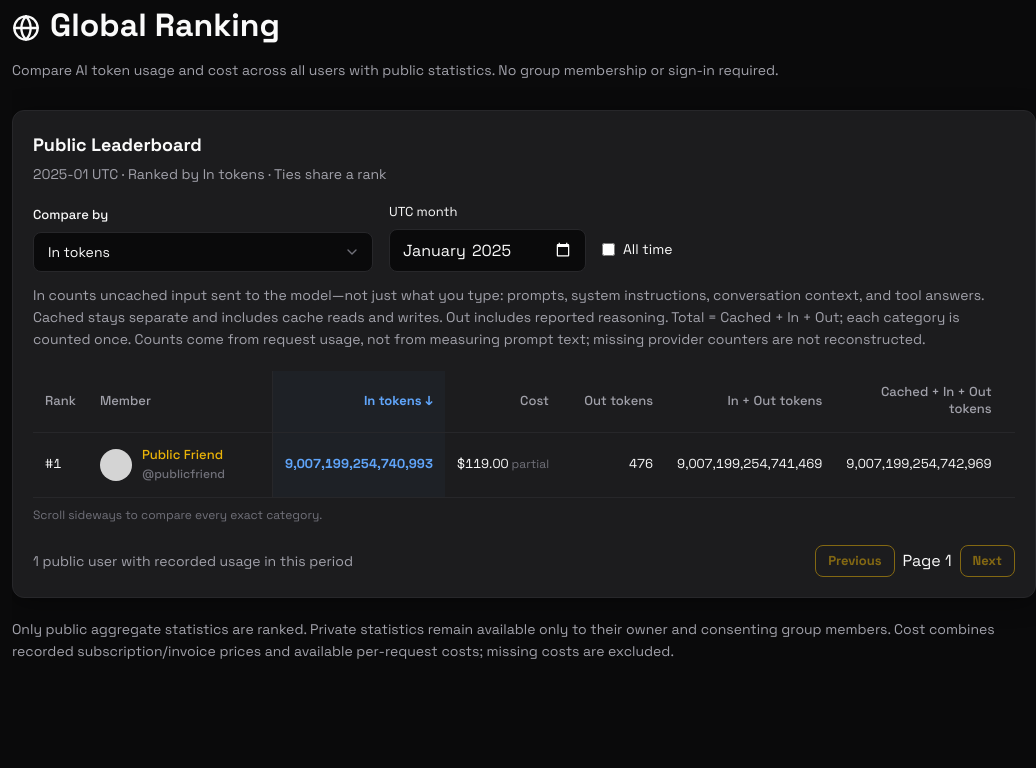
it: public global ranking › supports linked filters, historical UTC months and explicit all-time ranking
expect the element named "Global leaderboard exact statistics" is shown: met, box [33,371,1015,498]
expect the dropdown labelled "Compare by" shows "In tokens": met, box [33,232,373,272]
Replace the text in the field labelled "UTC month" with "2026-01": (488, 250) [389,229,586,272]
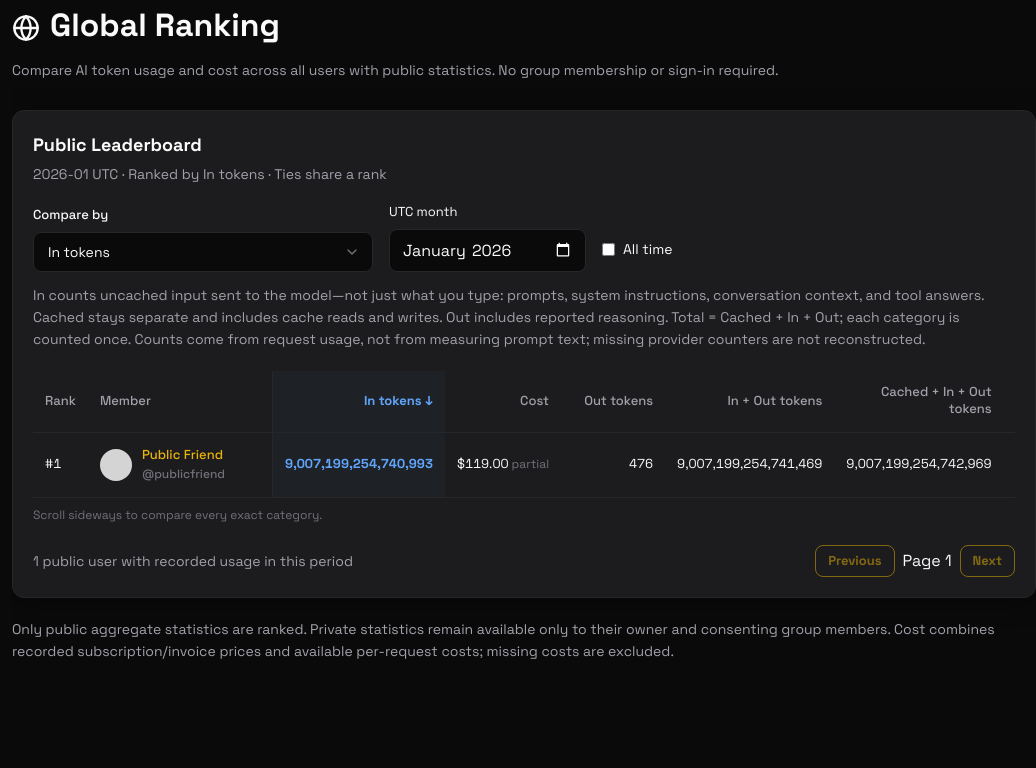
Click the checkbox labelled "All time": click(608, 250) [602,243,615,256]
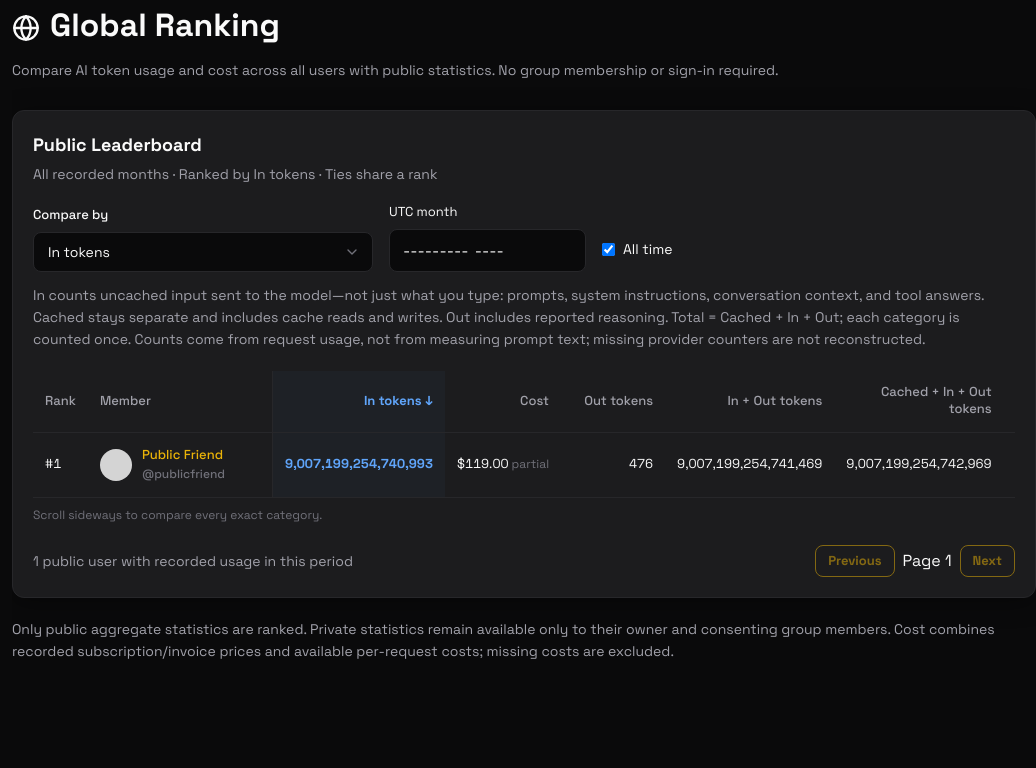
expect the field labelled "UTC month" is disabled: met, box [389,229,586,272]
